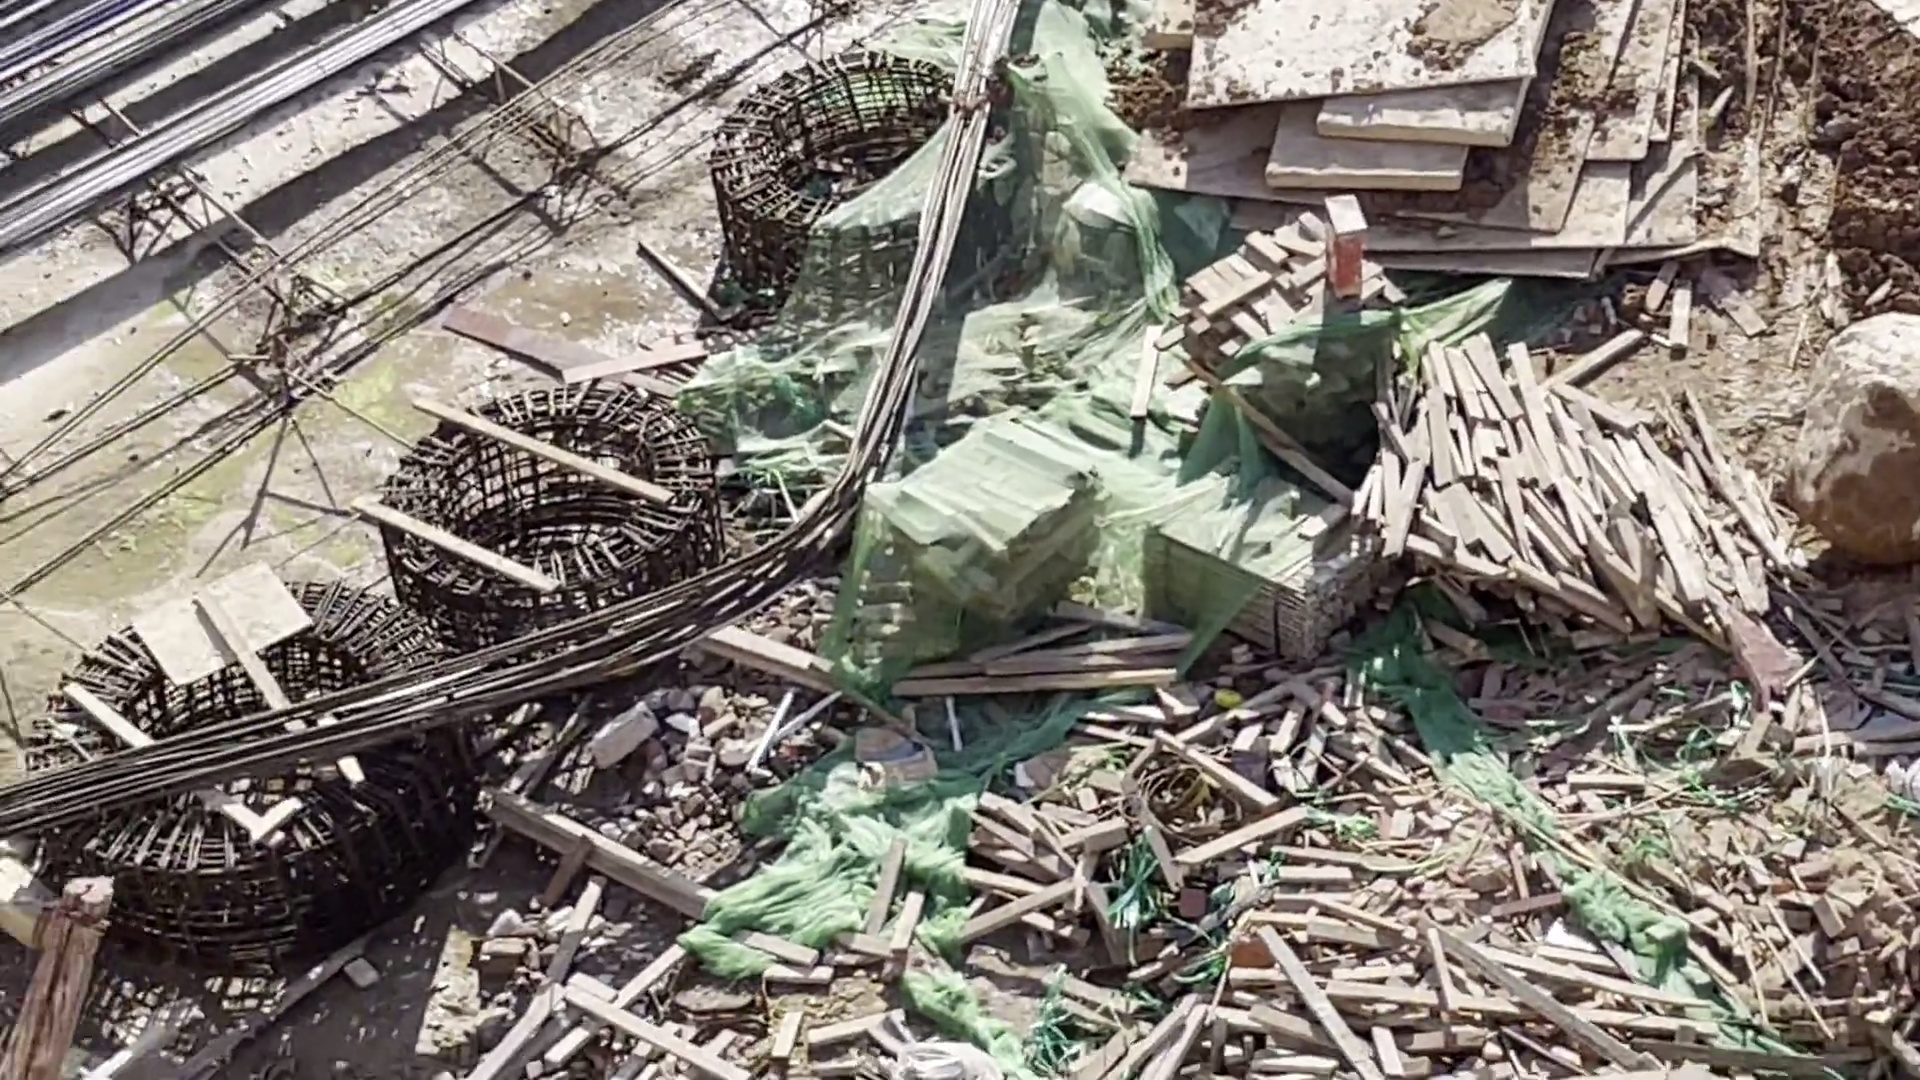board: (1149, 1, 1767, 274)
rebar: (1, 591, 764, 837), (765, 1, 1023, 727), (1, 1, 483, 211)
wood: (1378, 363, 1768, 669), (451, 518, 665, 735), (1124, 492, 1371, 669)
